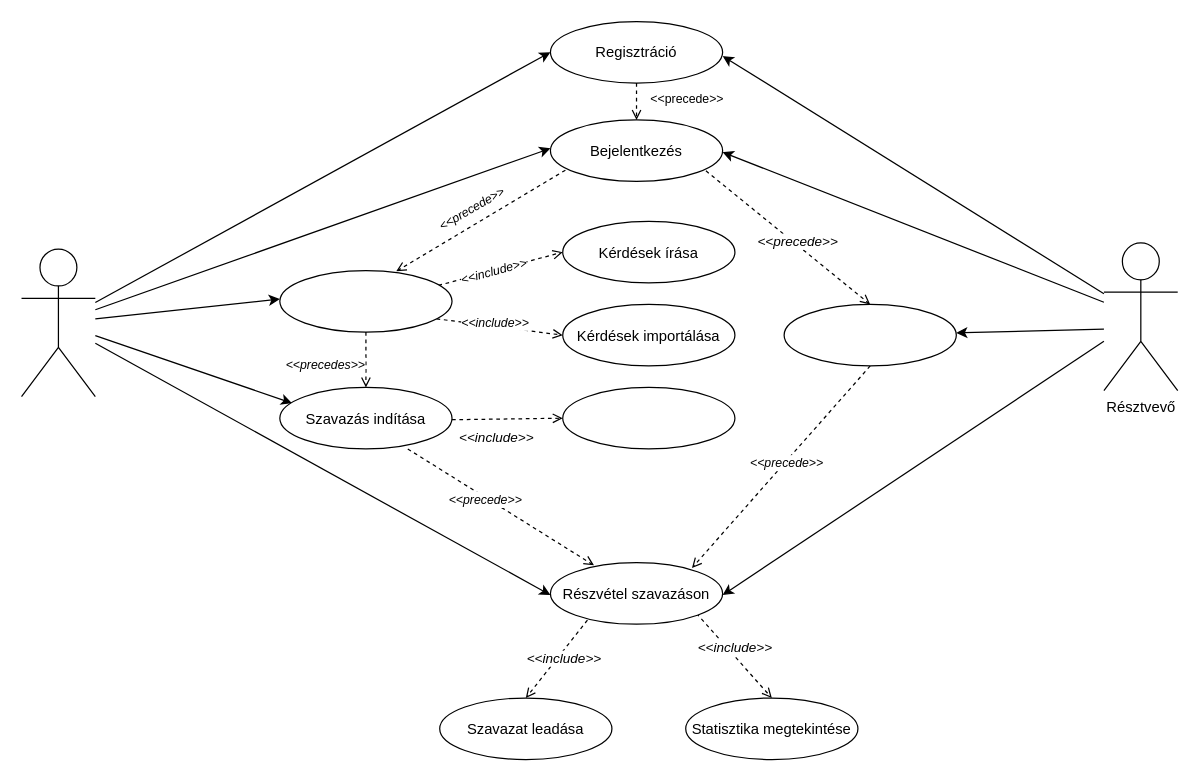
Some shapes in this 1199 by 781 pixel diagram are drawn without their labels. Each missing label, with the box of its shape:
Csatlakozás szavazáshoz: (783, 303, 956, 366)
Emberek meghívása: (561, 386, 735, 449)
Hoszt: (20, 248, 95, 397)
Kérdésbank készítése: (279, 269, 452, 332)
